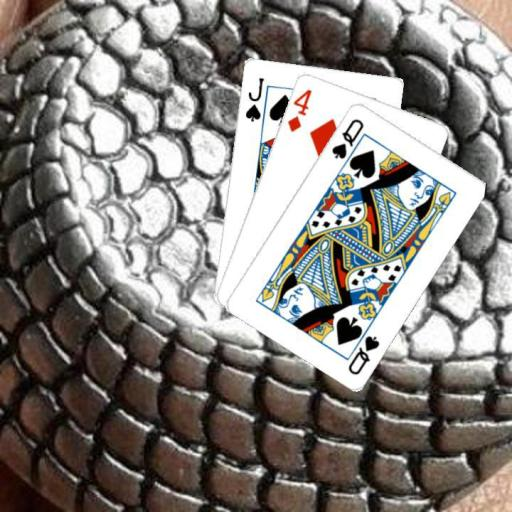4D: (284, 85, 313, 133)
JS: (242, 74, 265, 123)
QS: (329, 115, 366, 160), (344, 332, 381, 377)
